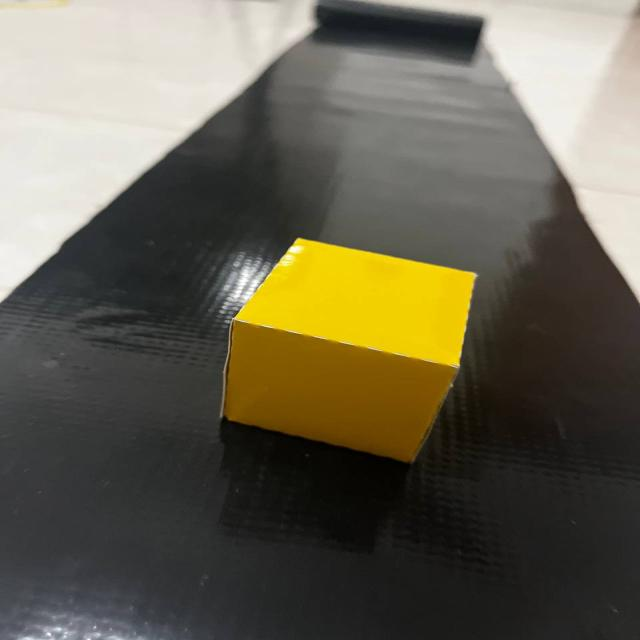Amarillo: (202, 227, 493, 483)
